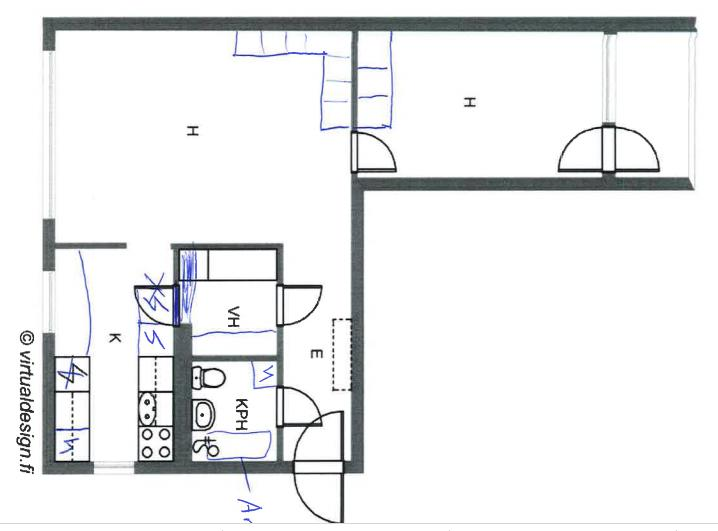bathroom: (191, 357, 276, 459)
door: (289, 459, 349, 521), (599, 121, 664, 176), (292, 410, 346, 475), (551, 123, 617, 174), (270, 380, 326, 431), (345, 128, 400, 176), (273, 281, 324, 330), (132, 282, 182, 326)
perimeter: (39, 16, 620, 478)
window: (37, 45, 58, 227), (599, 26, 621, 127), (38, 261, 59, 340), (87, 456, 143, 476)
